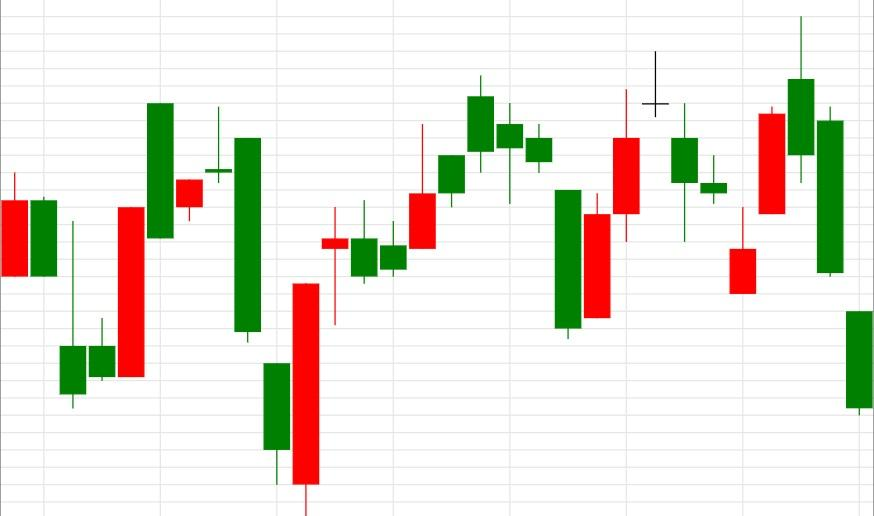bullish_engulfing_rise: (146, 102, 320, 516)
